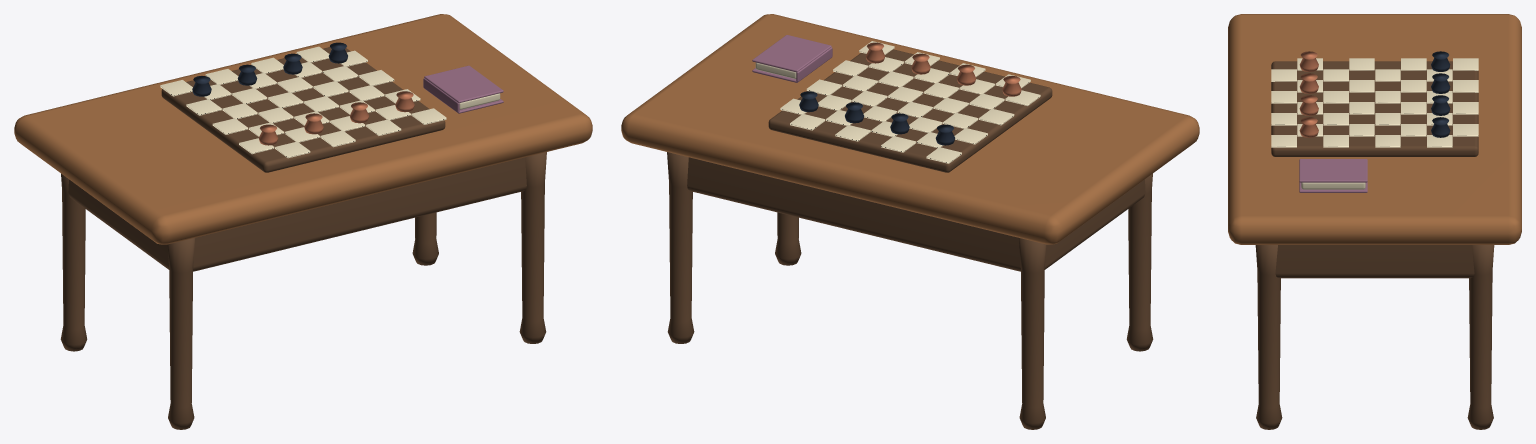
The model's file is game_table.glb.
3 views of the same model, side by side, from view 1: azimuth 30°, elevation 25°; view 2: azimuth 150°, elevation 25°; view 3: azimuth 270°, elevation 25° (orthographic).
Parts seen in each view (by area): view 1: House07_game_table; view 2: House07_game_table; view 3: House07_game_table.
Part boxes in pixels (<box>): House07_game_table: <box>14,14,592,429</box>; House07_game_table: <box>621,14,1199,429</box>; House07_game_table: <box>1228,14,1521,429</box>.
Bounding box in the file's own units: 1.45 × 0.808 × 0.85.
